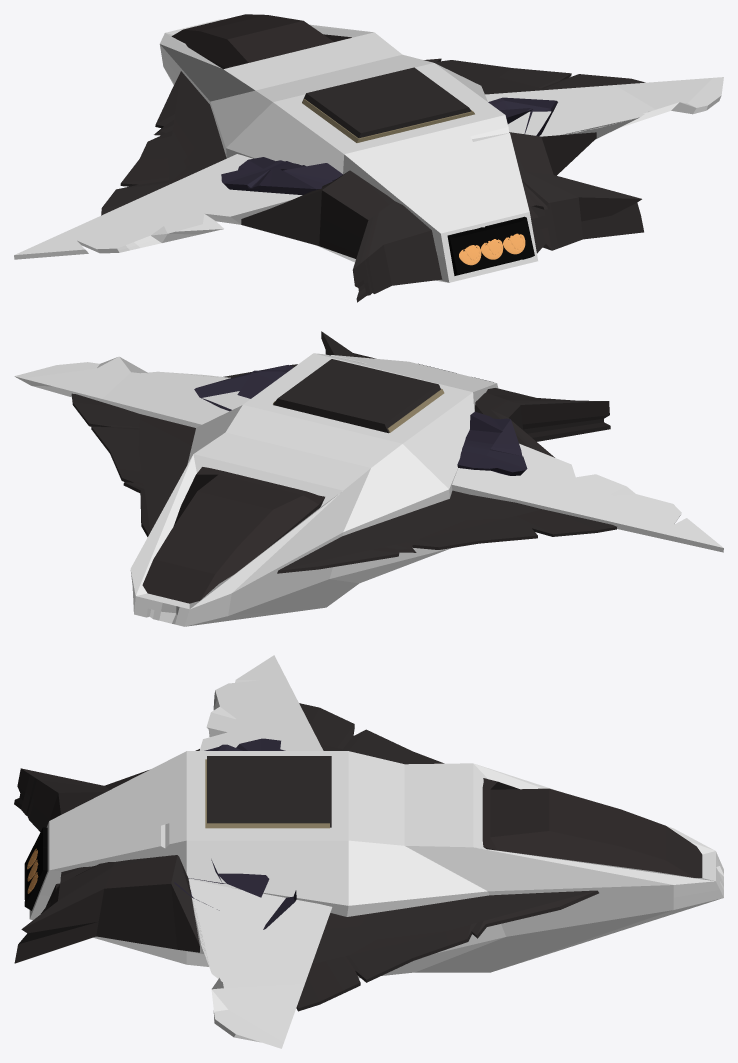
Rendered from Refugee ship.fbx.
3 views of the same model, one above another, from view 1: azimuth 30°, elevation 25°; view 2: azimuth 150°, elevation 25°; view 3: azimuth 270°, elevation 25° (orthographic). The views are drawn at different scales.
Visible parts, largest first — view 1: Main Frame, Side frame 1, Wing 2, Side frame 2, Wing 1, Super wing 2, Roof 2, Window, Super wing, Wing cover 1, Engine Frame, Wing cover 2 (+1 smaller); view 2: Main Frame, Window, Super wing 2, Wing 2, Wing 1, Super wing, Roof 2, Side frame 1, Wing cover 1, Wing cover 2, Side frame 2; view 3: Main Frame, Wing 1, Super wing, Window, Side frame 2, Roof 2, Wing 2, Side frame 1, Super wing 2, Wing cover 2, Engine Frame, Roof 1.
Part boxes in pixels (x1,y1,x2,y2): Main Frame: (159,19,537,282); Side frame 1: (241,170,442,302); Wing 2: (14,154,302,259); Side frame 2: (509,132,643,253); Wing 1: (485,77,723,139); Super wing 2: (101,71,226,215); Roof 2: (302,67,471,138); Window: (171,14,351,69); Super wing: (424,58,645,94); Wing cover 1: (221,157,342,195); Engine Frame: (447,216,534,275); Wing cover 2: (488,97,557,136); Main Frame: (130,353,498,626); Window: (142,467,324,603); Super wing 2: (277,490,616,573); Wing 2: (451,443,723,552); Wing 1: (14,356,250,427); Super wing: (71,393,195,536); Roof 2: (273,359,440,433); Side frame 1: (475,388,610,457); Wing cover 1: (457,411,527,475); Wing cover 2: (194,365,293,411); Side frame 2: (223,331,375,377); Main Frame: (29,751,723,978); Wing 1: (189,879,332,1048); Super wing: (296,890,598,1011); Window: (482,778,702,877); Side frame 2: (14,855,199,963); Roof 2: (207,756,331,827); Wing 2: (199,655,323,750); Side frame 1: (14,749,199,831); Super wing 2: (299,703,444,764); Wing cover 2: (174,859,296,929); Engine Frame: (24,827,47,910); Roof 1: (205,759,329,828).
Size of the model in its own units: 1039 by 183 by 787.
